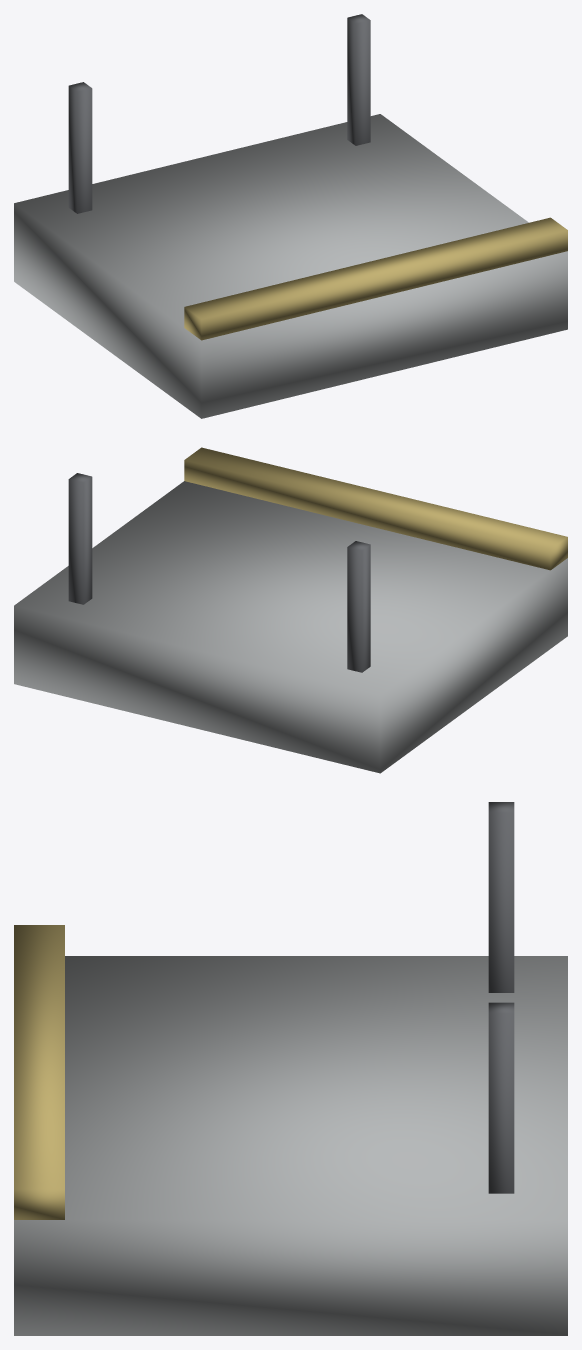
File: loading_dock_07.glb
3 views of the same model, one above another, from view 1: azimuth 30°, elevation 25°; view 2: azimuth 150°, elevation 25°; view 3: azimuth 270°, elevation 25° (orthographic). The views are drawn at different scales.
Parts seen in each view (by area): view 1: world; view 2: world; view 3: world.
Part boxes in pixels (<box>): world: <box>14,14,567,418</box>; world: <box>14,447,567,773</box>; world: <box>14,802,567,1335</box>.
Bounding box in the file's own units: 2.2 × 1.15 × 1.95.
